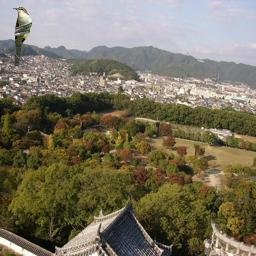Cuckoo: (13, 7, 33, 66)
